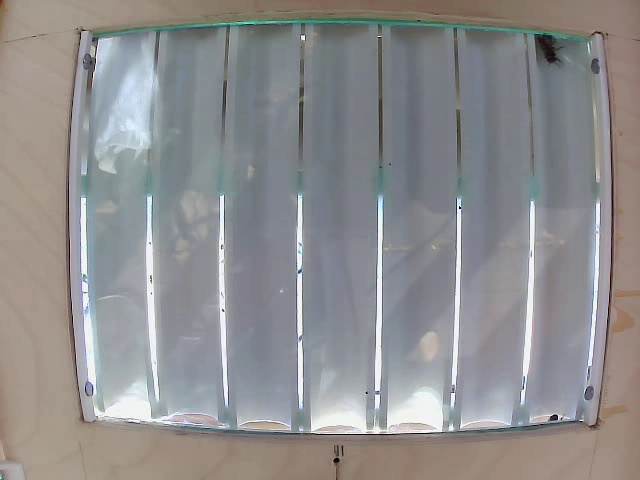bee: (541, 33, 563, 71)
